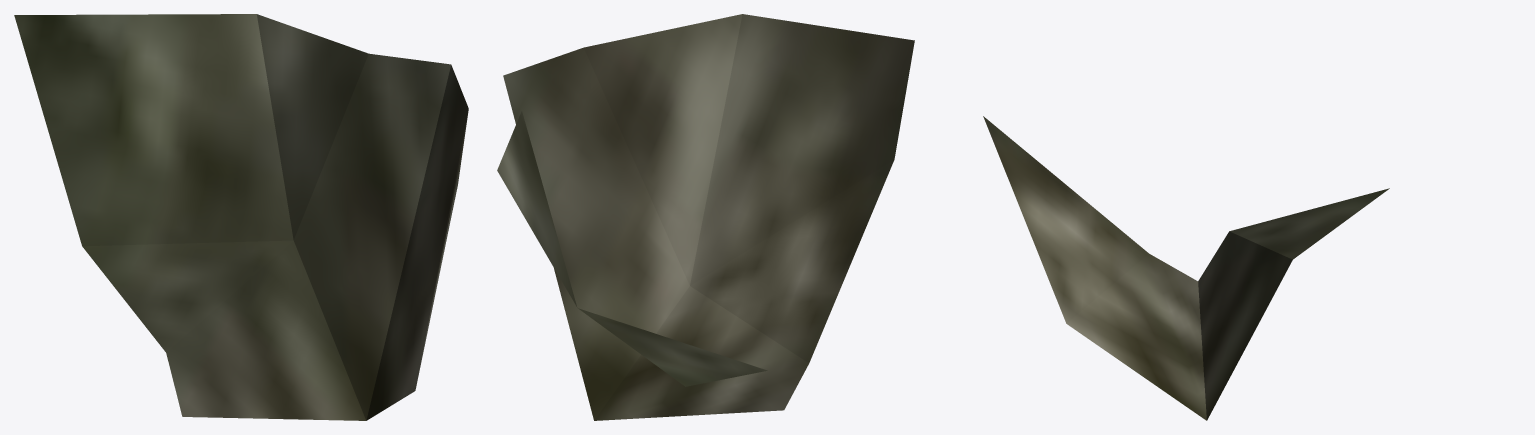
3 views of the same model, side by side, from view 1: azimuth 30°, elevation 25°; view 2: azimuth 150°, elevation 25°; view 3: azimuth 270°, elevation 25° (orthographic). The views are drawn at different scales.
Size of the model in its own units: 0.322 by 0.3685 by 0.6055.
1 material, 1 textured.
